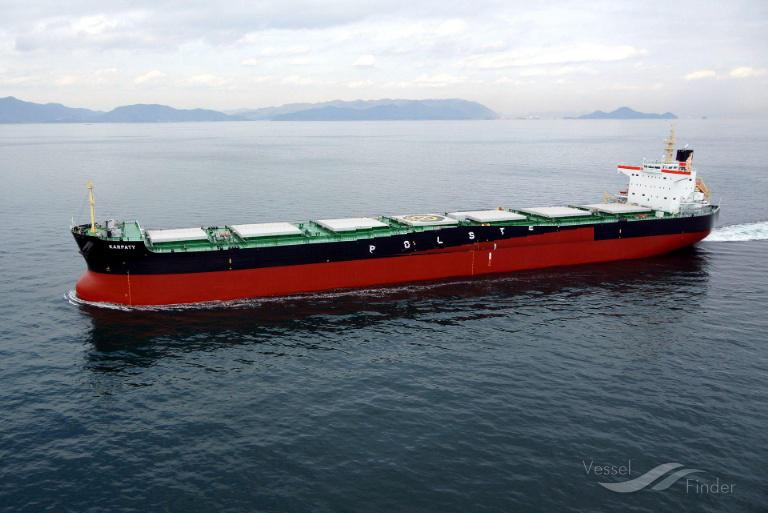OCR: (346, 226, 594, 258)
